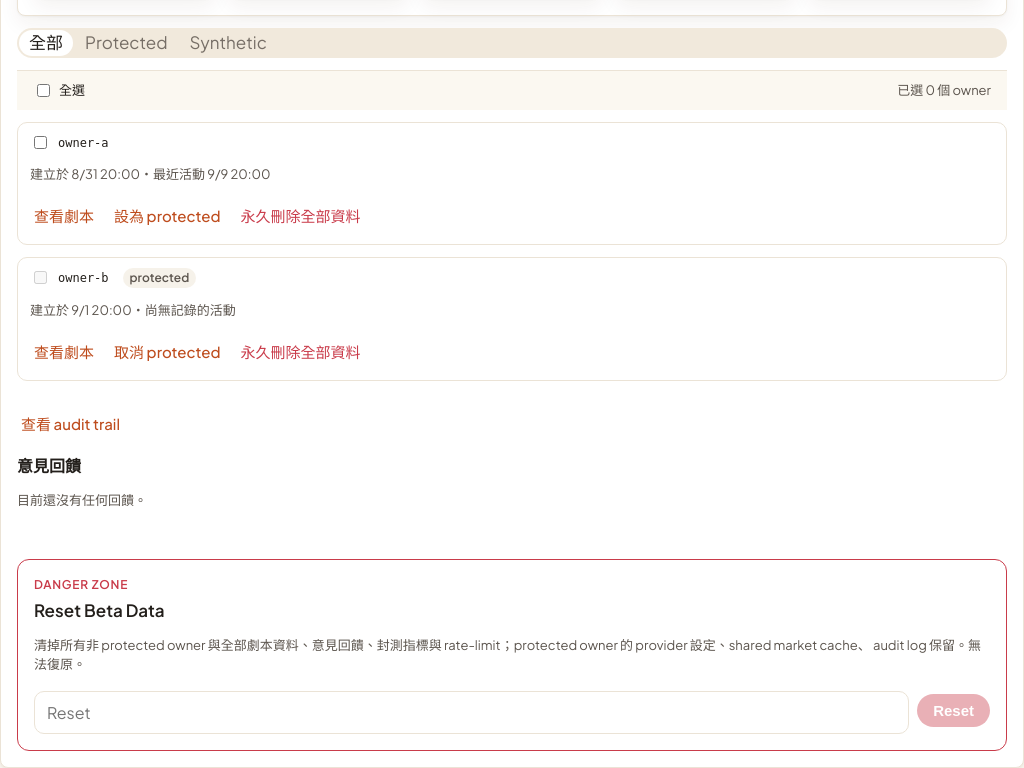
Scenario: SuperUserAdmin › CLAUDE-BETA-LAUNCH-FINAL-001：Danger Zone — Reset Beta Data › Reset 鈕要逐字打對「Reset」才能按，大小寫不同也不行
(page scrolled)
Expected: the button "Reset" is disabled, x1=917 y1=694 x2=990 y2=727
Type "reset" into the field named "輸入 Reset 以確認" at (472, 712), box x1=34 y1=691 x2=909 y2=734
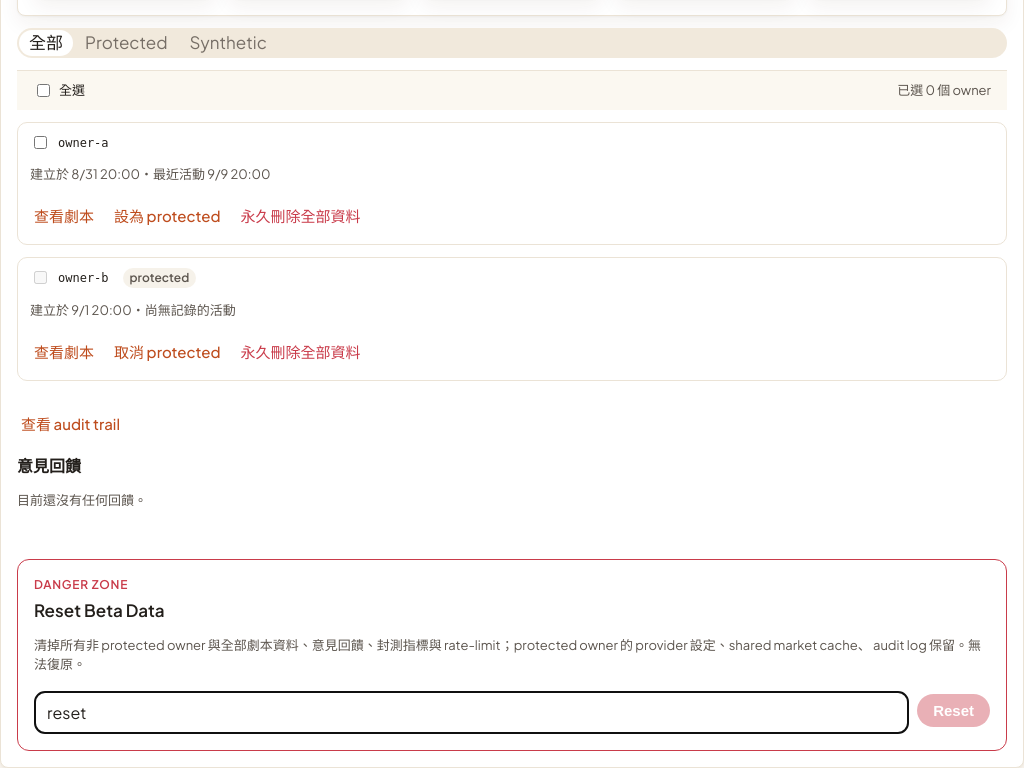
Expected: the button "Reset" is disabled, x1=917 y1=694 x2=990 y2=727
Replace the text in the field named "輸入 Reset 以確認" with "Reset" at (472, 712), box x1=34 y1=691 x2=909 y2=734
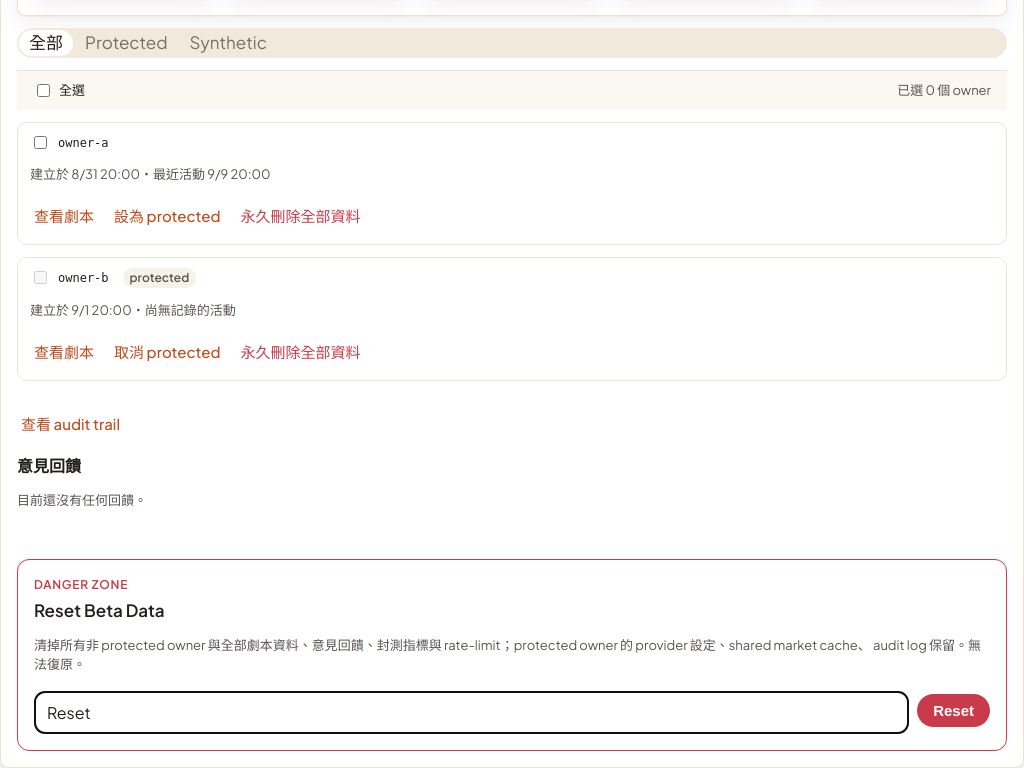
Expected: the button "Reset" is enabled, x1=917 y1=694 x2=990 y2=727
